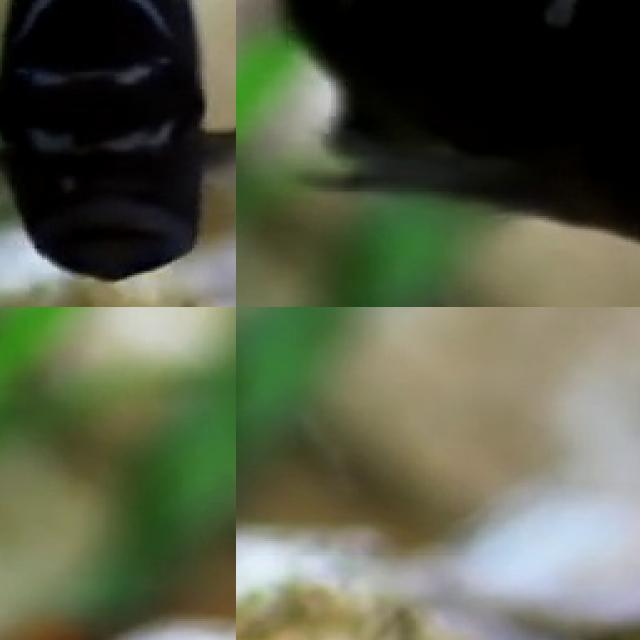fish: (236, 0, 640, 276), (0, 0, 236, 307)
